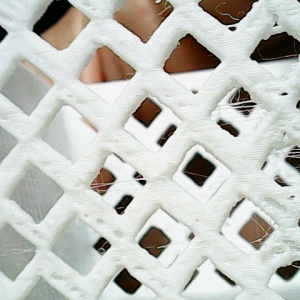3dpstringing: (212, 95, 266, 136), (92, 170, 145, 198), (144, 235, 195, 259), (245, 215, 281, 248), (259, 139, 299, 166), (5, 241, 37, 265), (252, 51, 297, 68), (213, 8, 246, 30), (148, 3, 182, 21), (288, 259, 298, 271)
3dpunderextrusion: (82, 212, 126, 244), (260, 194, 297, 231), (54, 271, 93, 300), (12, 220, 48, 242), (268, 236, 298, 261), (63, 90, 93, 114)
